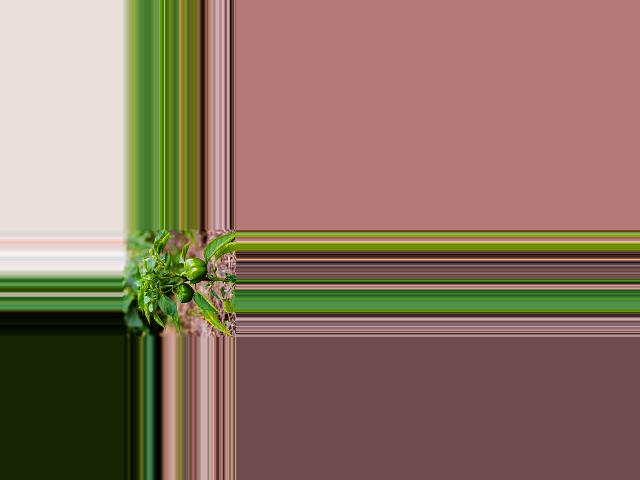bell_pepper: (175, 283, 195, 304)
